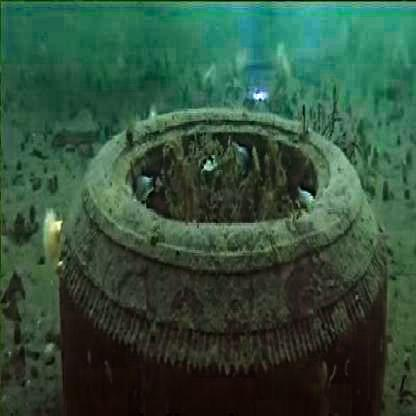tire: (62, 132, 382, 376)
